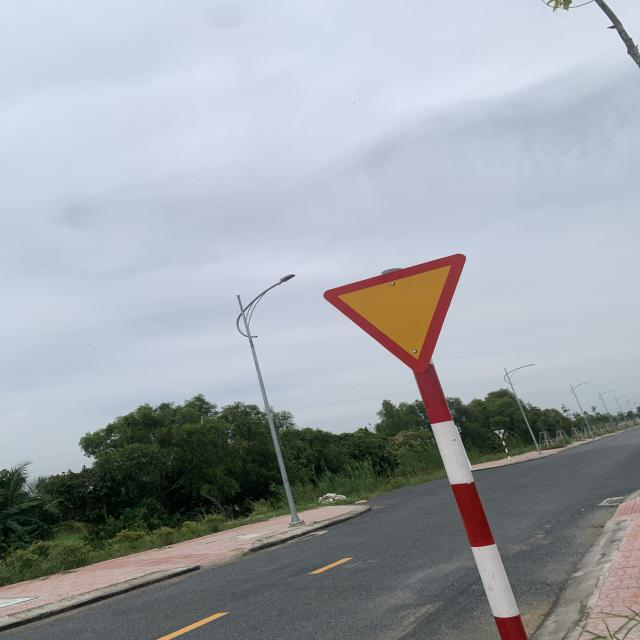Gioi_Han_Toc_Do_25: (324, 254, 467, 374)
